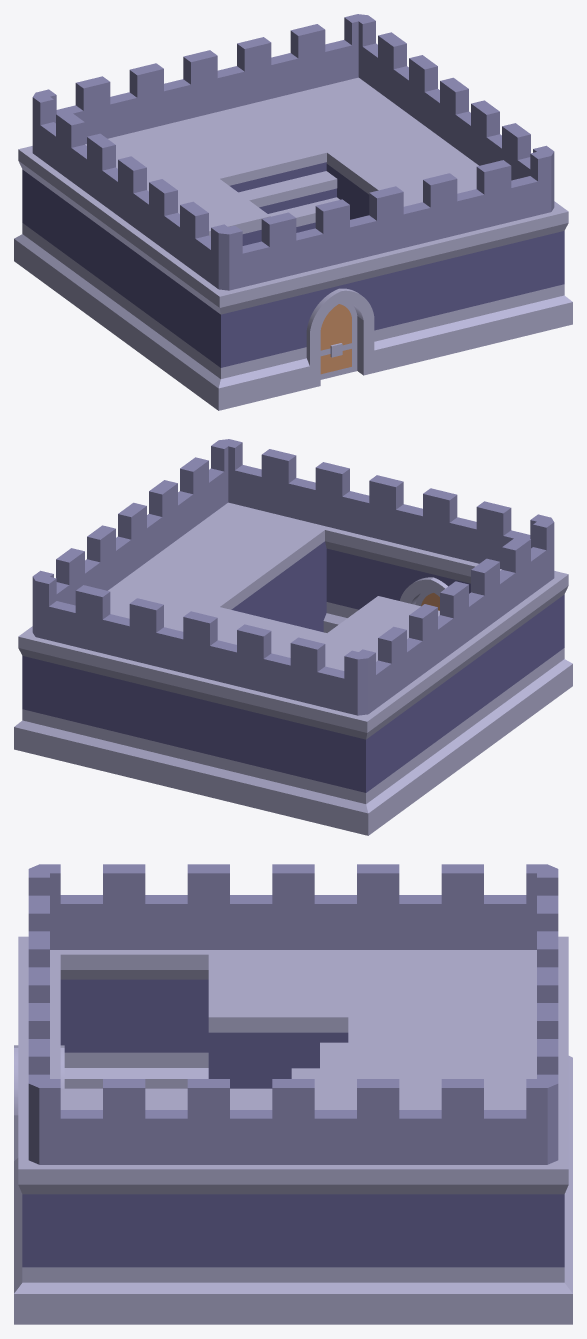
File: Castle.dae
3 views of the same model, one above another, from view 1: azimuth 30°, elevation 25°; view 2: azimuth 150°, elevation 25°; view 3: azimuth 270°, elevation 25° (orthographic). The views are drawn at different scales.
Parts seen in each view (by area): view 1: mergedBlocks; view 2: mergedBlocks; view 3: mergedBlocks.
Part boxes in pixels (left/top/right/bottom): mergedBlocks: left=14, top=14, right=572, bottom=410; mergedBlocks: left=14, top=439, right=572, bottom=835; mergedBlocks: left=14, top=864, right=572, bottom=1324.
Size of the model in its own units: 3.3 by 1.5 by 3.3.
